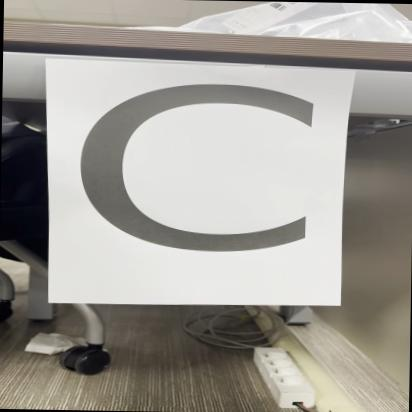seat: (48, 59, 344, 305)
